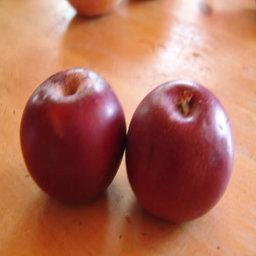apple: (124, 81, 234, 224), (18, 69, 126, 207)
